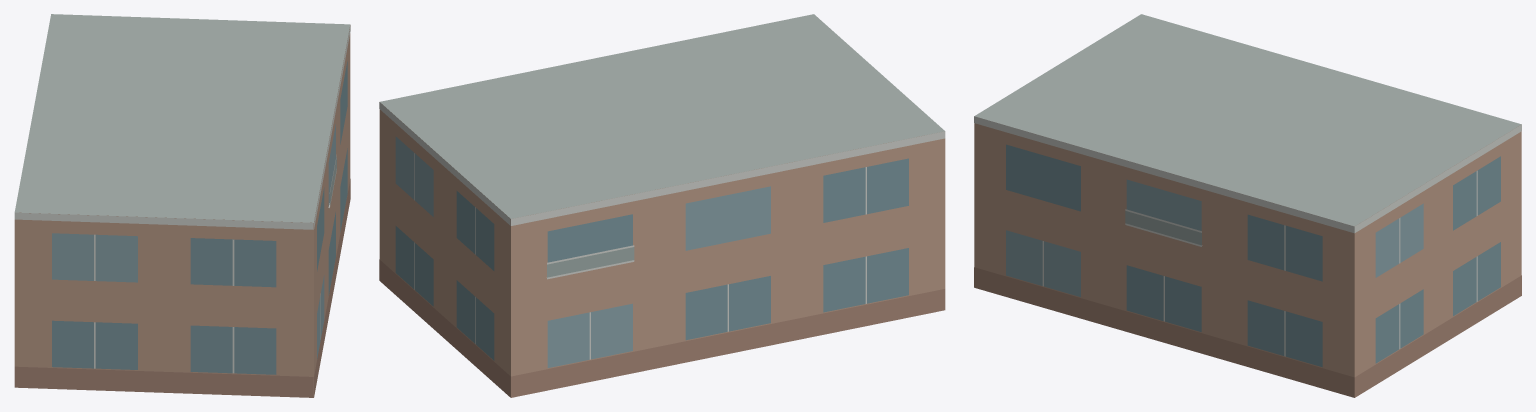
Rendered from survey-upis-32985435.glb.
3 views of the same model, side by side, from view 1: azimuth 30°, elevation 25°; view 2: azimuth 150°, elevation 25°; view 3: azimuth 270°, elevation 25° (orthographic). The views are drawn at different scales.
Parts seen in each view (by area): view 1: survey-upis-32985435.tmp; view 2: survey-upis-32985435.tmp; view 3: survey-upis-32985435.tmp.
Boxes of the visible parts, x1=… form: survey-upis-32985435.tmp: x1=14, y1=14, x2=350, y2=397; survey-upis-32985435.tmp: x1=379, y1=14, x2=945, y2=397; survey-upis-32985435.tmp: x1=974, y1=14, x2=1521, y2=397.
Bounding box in the file's own units: 16.23 × 6.1 × 17.67.
